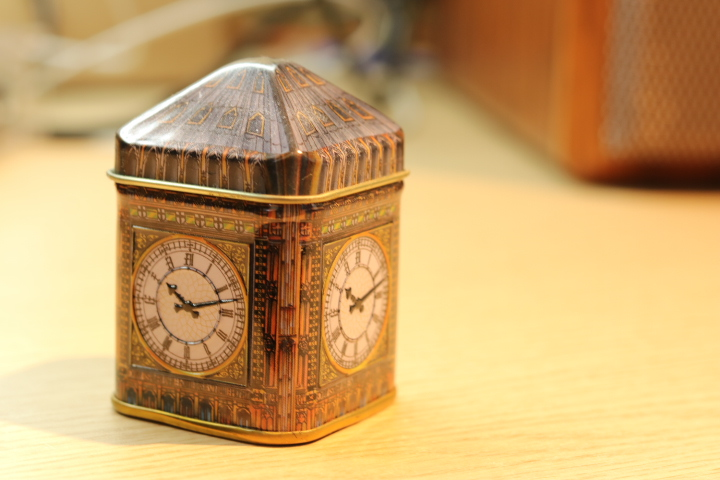Big Ben: (96, 46, 454, 454)
